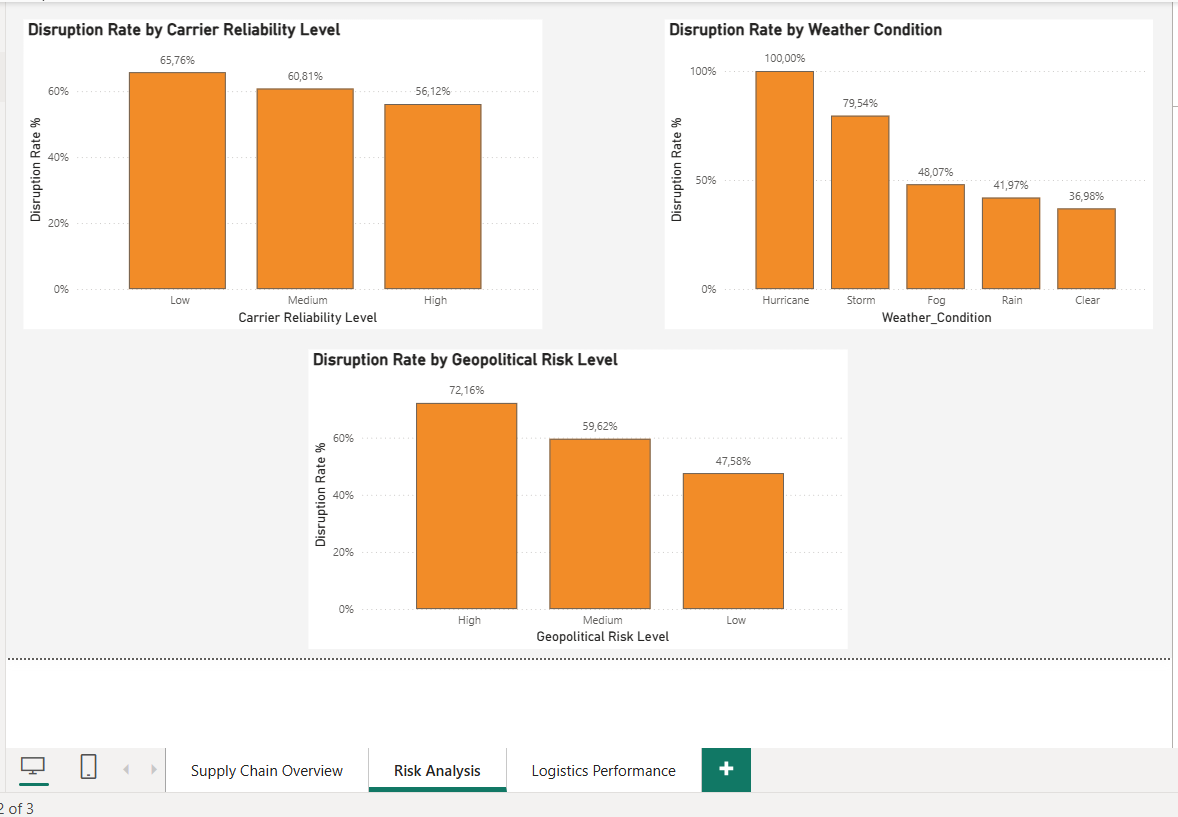

The page's visual inventory and layout, read from the dashboard file:
{"tool":"powerbi","page":{"name":"Risk Analysis","canvas":[1280,720],"ordinal":1},"visuals":[{"type":"clusteredColumnChart","title":"Disruption Rate by Carrier Reliability Level","fields":{"Category":["Shipments.Carrier Reliability Level"],"Y":["Dashboard Measures.Disruption Rate %"]},"box":[19.6,19.6,569.8,339.9],"z":0},{"type":"clusteredColumnChart","title":"Disruption Rate by Weather Condition","fields":{"Category":["Shipments.Weather_Condition"],"Y":["Dashboard Measures.Disruption Rate %"]},"box":[722.7,19.6,535.6,339.9],"z":1000},{"type":"clusteredColumnChart","title":"Disruption Rate by Geopolitical Risk Level","fields":{"Category":["Shipments.Geopolitical Risk Level"],"Y":["Dashboard Measures.Disruption Rate %"]},"box":[332.6,381.5,591.9,328.9],"z":2000}]}

Visuals, with their boxes on the page's 1280x720 design canvas (x1, y1, x2, y2). These are canvas units, not pixel positions in the 1178x817 screenshot, which may show the page scaled, cropped or inside an application window:
"Disruption Rate by Carrier Reliability Level" clusteredColumnChart: 20, 20, 589, 360
"Disruption Rate by Weather Condition" clusteredColumnChart: 723, 20, 1258, 360
"Disruption Rate by Geopolitical Risk Level" clusteredColumnChart: 333, 382, 924, 710
